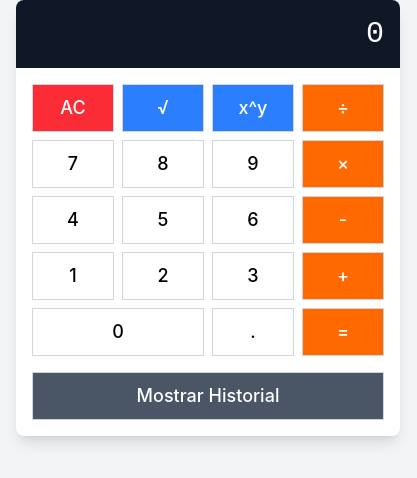
Scenario: Calculator Component › muestra números cuando se hace clic
The image size is (417, 478).
Click the button with test id "btn-2": (163, 276) x1=122 y1=252 x2=204 y2=300
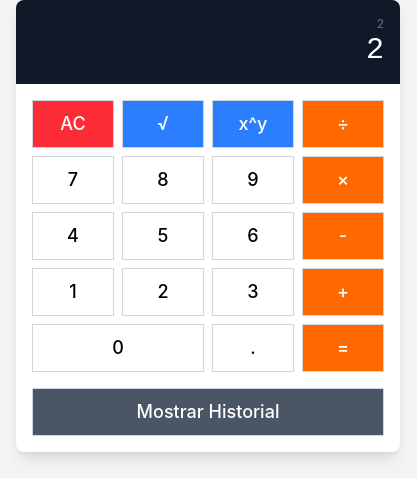
Click the button with test id "btn-3": (253, 292) x1=212 y1=268 x2=294 y2=316
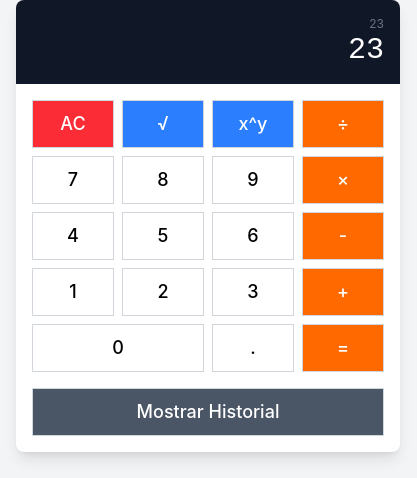
Expected: the text with test id "calculator-display" reads "23", x1=348 y1=33 x2=384 y2=67
